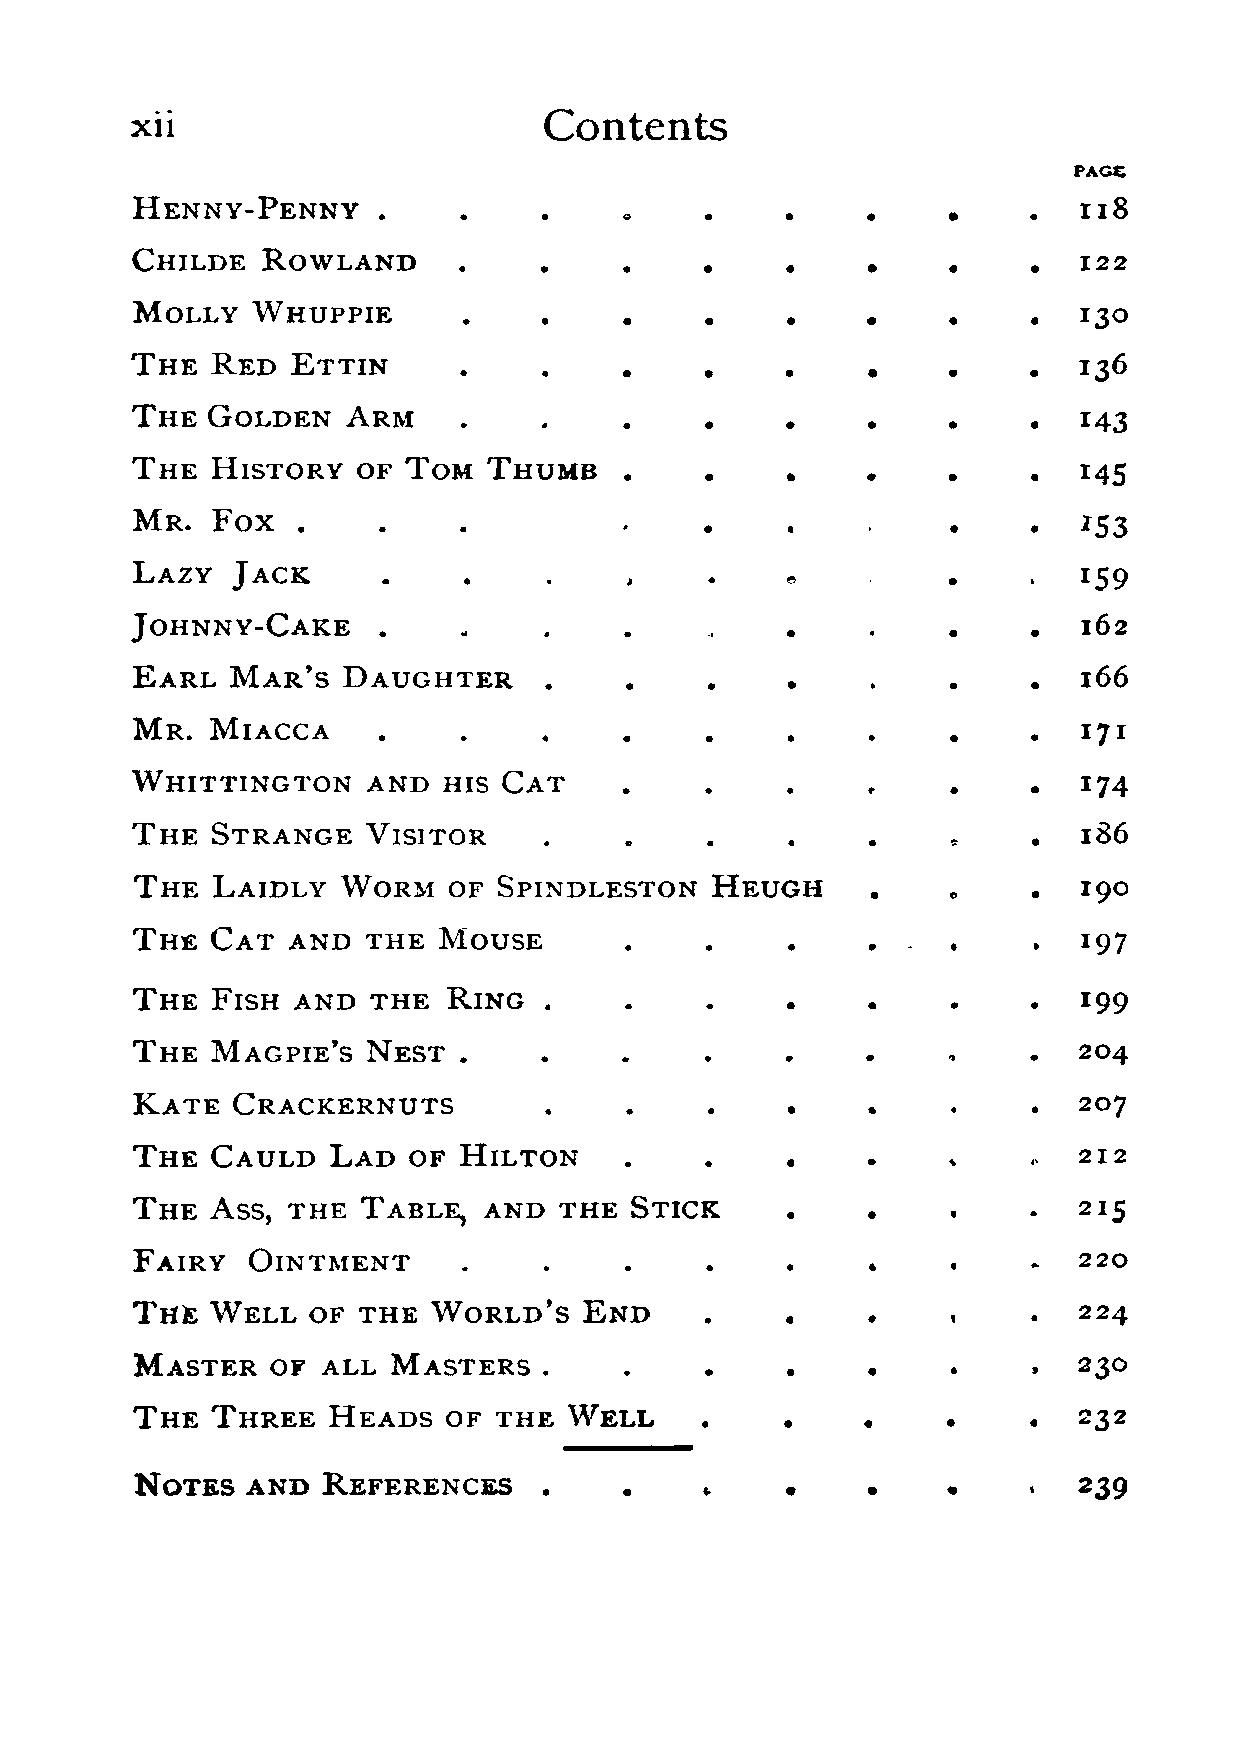TOC_chapter: (130, 866, 833, 905), (126, 1186, 731, 1231), (121, 1292, 666, 1334), (126, 1394, 662, 1435), (123, 760, 574, 803), (123, 447, 603, 486), (126, 917, 552, 958), (122, 1135, 585, 1173), (121, 1342, 538, 1384), (126, 654, 523, 697), (123, 978, 527, 1019), (132, 1461, 523, 1502), (123, 815, 494, 854), (123, 1084, 460, 1125), (119, 395, 421, 437), (119, 1032, 458, 1070), (121, 344, 397, 386), (123, 286, 399, 329), (126, 183, 366, 231), (123, 242, 417, 280), (123, 603, 354, 650), (123, 1241, 415, 1276), (123, 707, 337, 750), (123, 550, 318, 593), (130, 498, 285, 541)
TOC_pagenumber: (1070, 978, 1134, 1027), (1070, 1084, 1145, 1122), (1072, 1129, 1138, 1172), (1075, 1461, 1133, 1510), (1074, 344, 1135, 386), (1075, 1186, 1137, 1228), (1072, 556, 1134, 595), (1074, 1342, 1129, 1385), (1072, 401, 1138, 436), (1075, 239, 1135, 276), (1074, 868, 1135, 905), (1074, 456, 1137, 490), (1078, 1033, 1133, 1071), (1078, 929, 1137, 964), (1075, 187, 1131, 223), (1074, 1291, 1131, 1326), (1079, 766, 1133, 803), (1074, 817, 1133, 849), (1074, 1398, 1131, 1431), (1072, 613, 1134, 643), (1078, 505, 1129, 539), (1082, 656, 1130, 692), (1078, 711, 1129, 743), (1078, 297, 1126, 329), (1079, 1245, 1131, 1274)
chapter: (531, 103, 731, 149)
